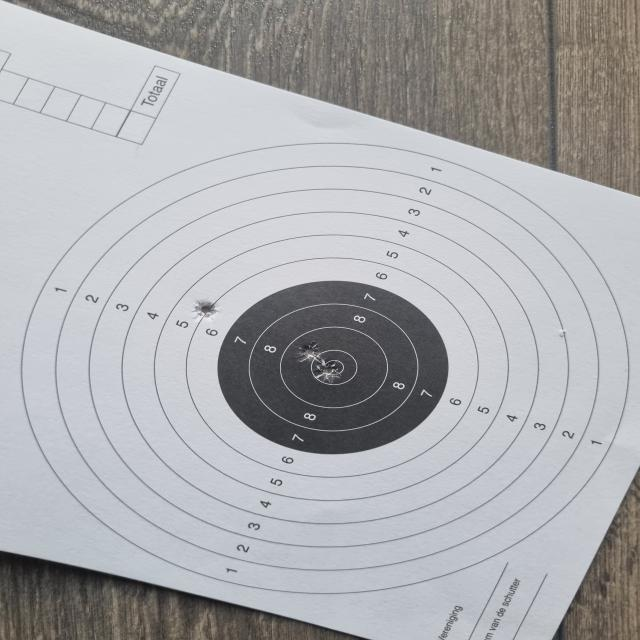10: (314, 359, 342, 383), (297, 343, 322, 363)
6: (192, 300, 220, 320)
Target: (20, 141, 630, 594)
black_contour: (218, 280, 449, 454)
